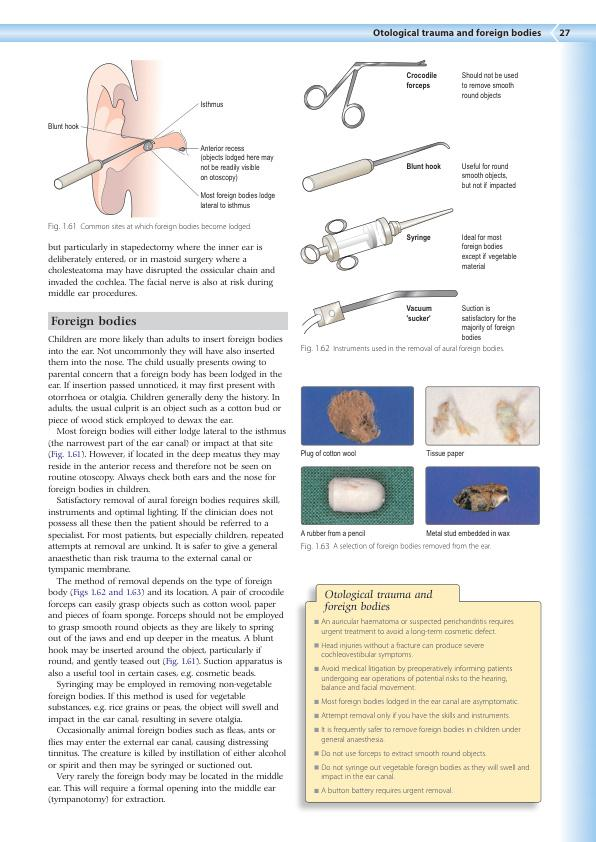caption: (321, 588, 434, 614), (460, 233, 518, 271), (299, 541, 494, 552), (460, 304, 517, 341), (300, 344, 505, 354), (47, 222, 252, 232), (460, 70, 520, 102), (460, 161, 518, 191), (425, 529, 511, 537), (299, 529, 366, 539), (405, 71, 437, 91), (300, 449, 357, 459), (425, 449, 466, 459), (406, 162, 442, 170), (406, 233, 431, 244)
header: (372, 27, 542, 39)
image: (42, 54, 279, 220), (295, 52, 455, 131), (295, 198, 457, 275), (295, 279, 459, 338), (295, 135, 456, 195), (300, 385, 415, 447), (425, 386, 540, 446), (301, 465, 414, 526), (425, 466, 540, 525)
list: (312, 617, 531, 796)
section-heading: (50, 315, 137, 329)
text: (47, 335, 288, 804), (47, 242, 276, 299)
